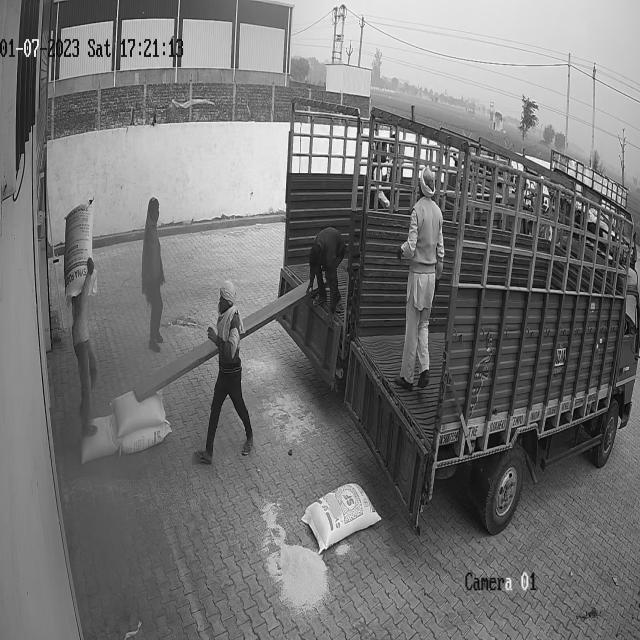sack: (301, 481, 381, 552), (63, 196, 98, 302), (110, 389, 164, 435), (81, 414, 118, 464), (120, 422, 170, 453)
